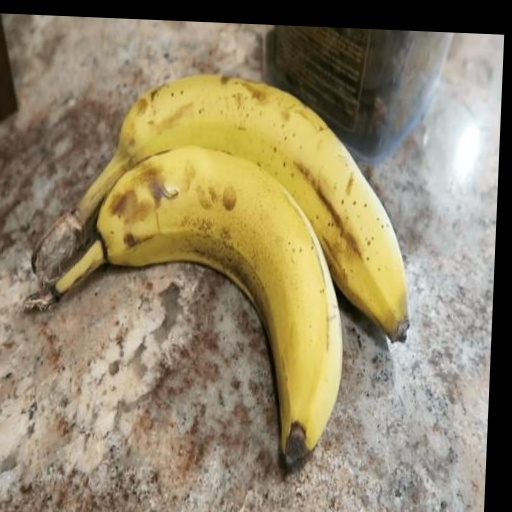fruit: (25, 148, 342, 464), (33, 76, 408, 340)
